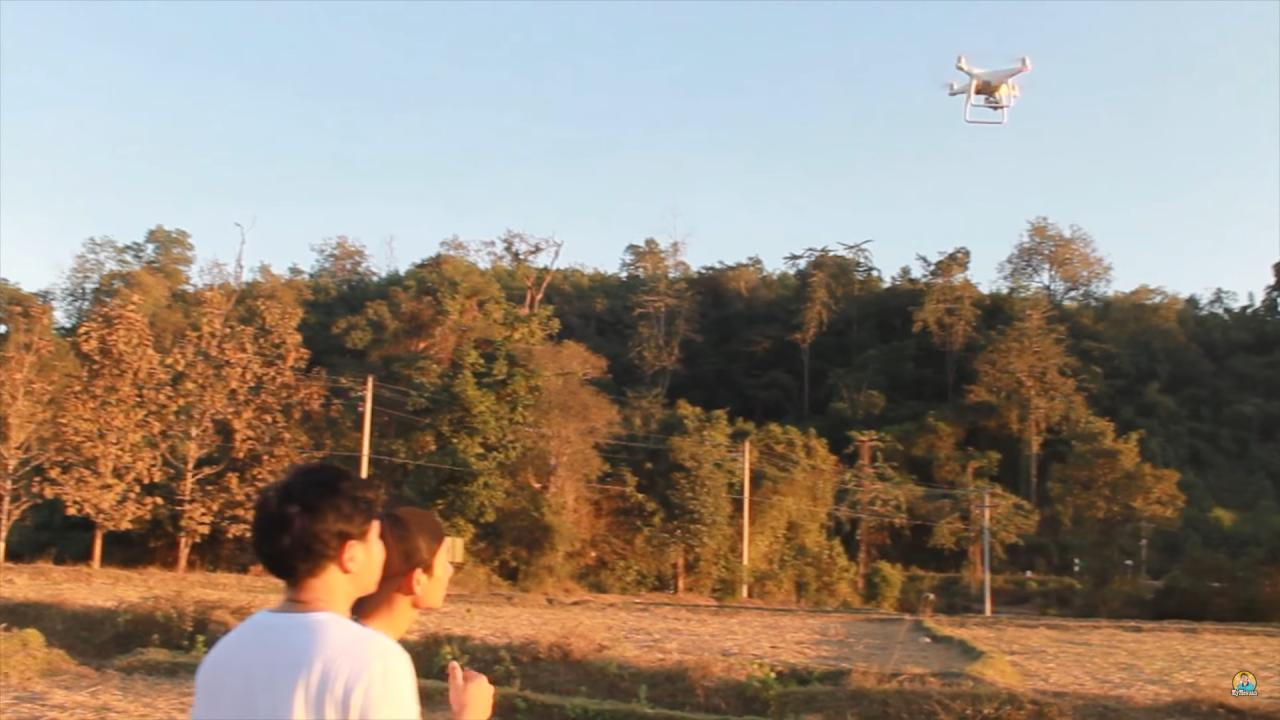Drone: (932, 41, 1043, 138)
